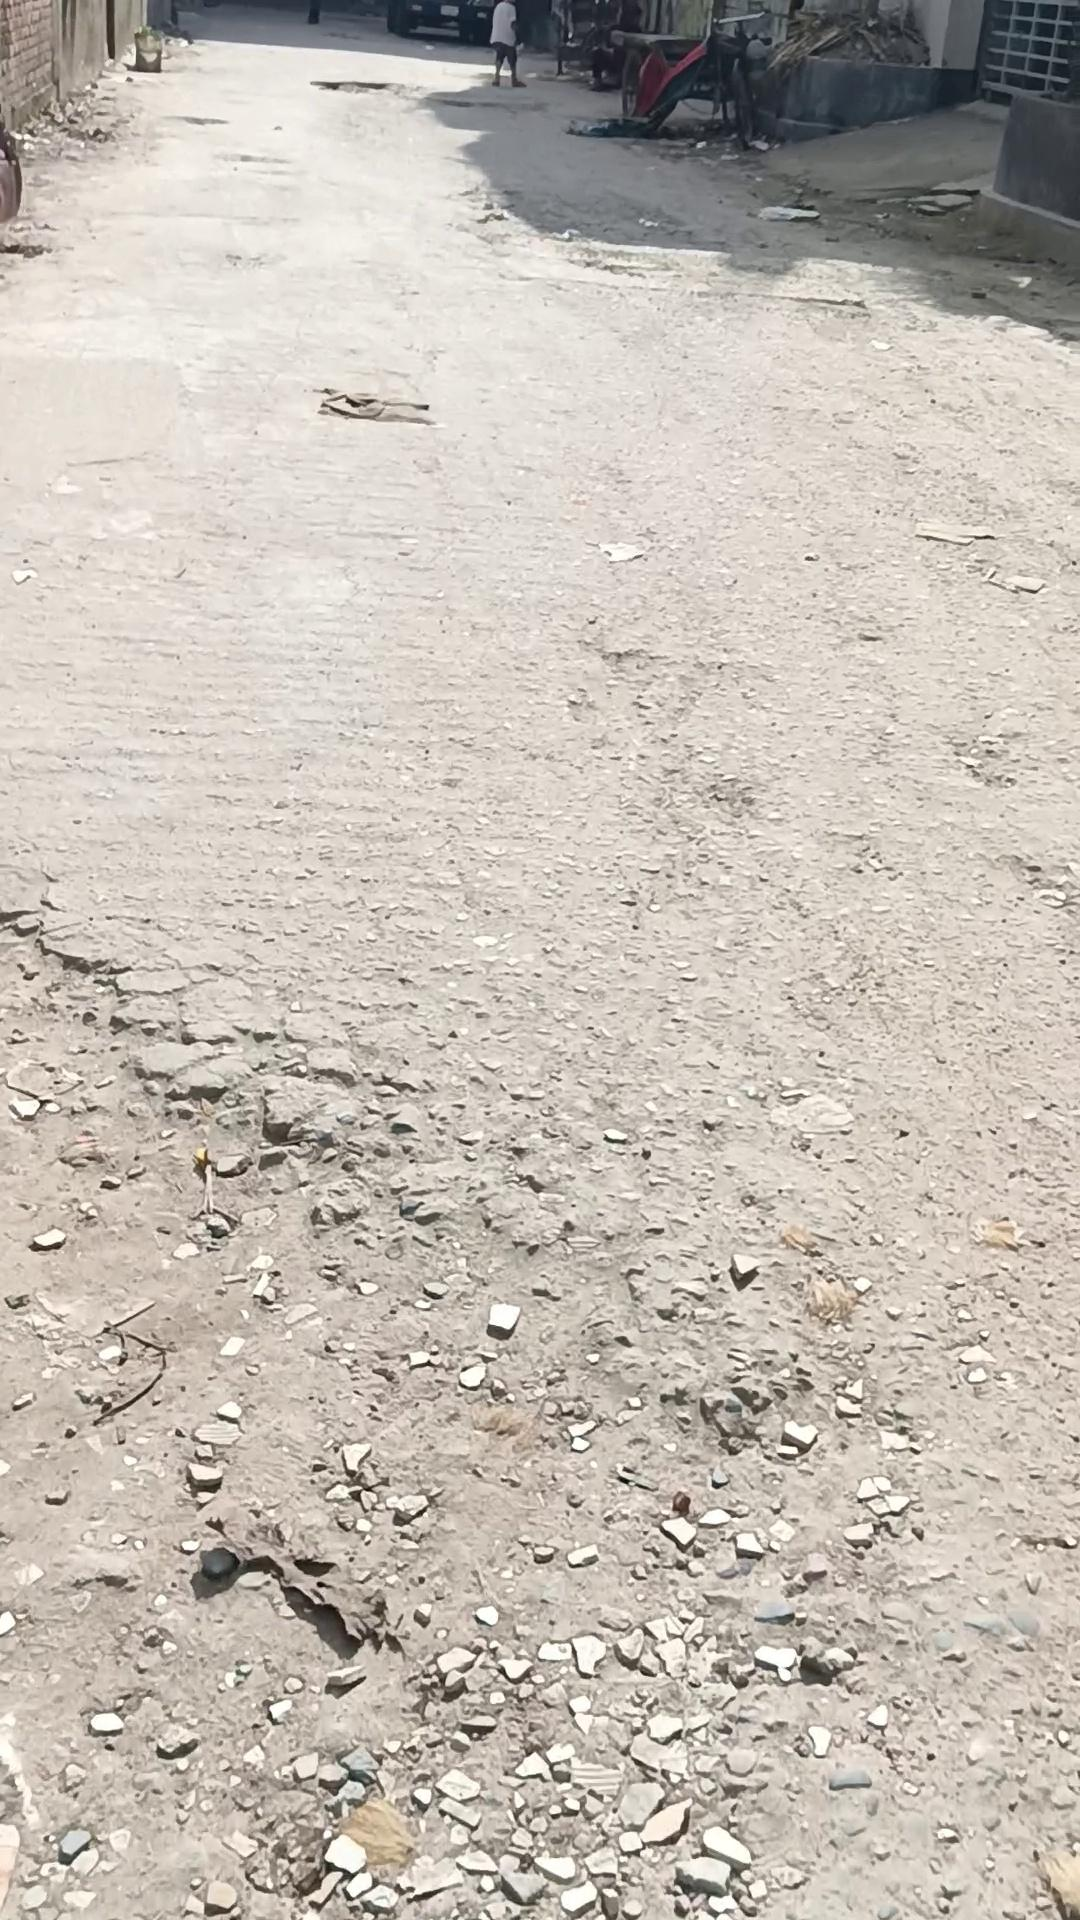Broken-road: (0, 0, 1077, 1915)
Crosswalk: (976, 88, 1077, 266)
Motorcycle: (131, 22, 166, 73)
Muddy road: (488, 0, 526, 87)
Pothole: (553, 1, 625, 76)
